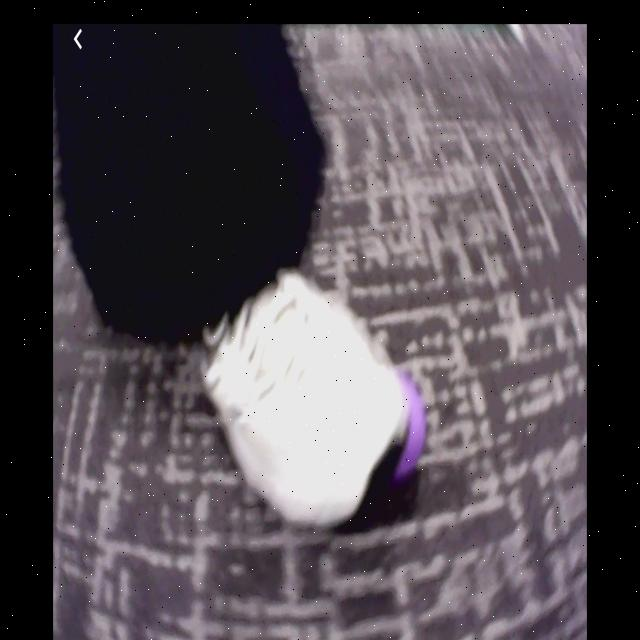ball: (393, 376, 424, 481)
